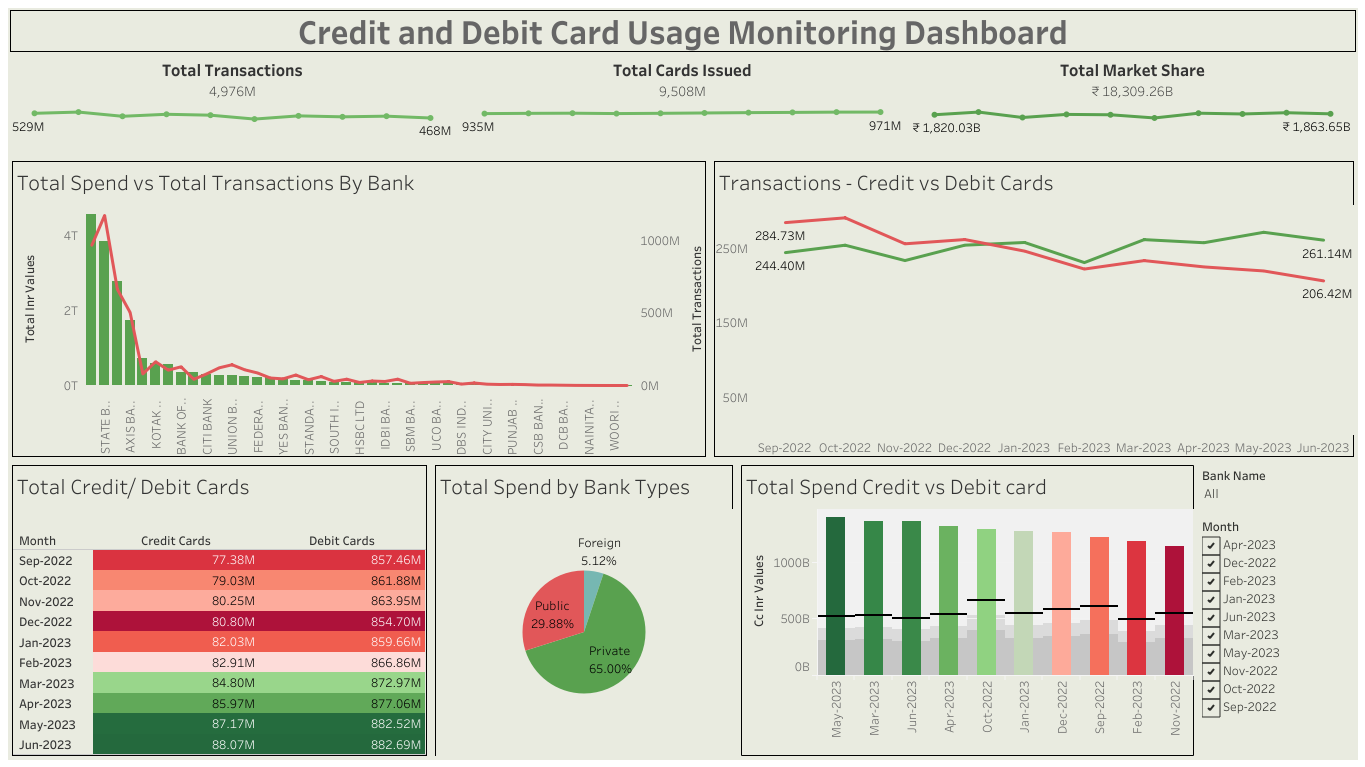

The dashboard page shown, as its layout file describes it:
{"tool":"tableau","page":{"name":"Dashboard 1","canvas":[1366,768],"ordinal":0},"visuals":[{"type":"text","box":[8,8,1350,46]},{"type":"worksheet","title":"Total Transactions","mark":"Automatic","box":[8,54,450,50]},{"type":"worksheet","title":"Total Cards Issued","mark":"Automatic","box":[458,54,449.9,50]},{"type":"worksheet","title":"Total Market Share","mark":"Automatic","box":[907.9,54,450.1,50]},{"type":"worksheet","title":"Total Transaction","mark":"Line","rows":["Calculation_302022709575872513"],"cols":["Month"],"box":[8,104,450,53]},{"type":"worksheet","title":"Total Card","mark":"Line","rows":["Calculation_302022709575753728"],"cols":["Month"],"box":[458,104,449.9,53]},{"type":"worksheet","title":"Total Inr Values","mark":"Line","rows":["Calculation_302022709575958530"],"cols":["Month"],"box":[907.9,104,450.1,53]},{"type":"worksheet","title":"Total Value vs Transactions","mark":"Bar","rows":["Calculation_302022709575958530","Calculation_302022709575872513"],"cols":["bank_name"],"box":[8,157,702,304]},{"type":"worksheet","title":"CC/DC transactions","mark":"Line","rows":["cc_transactions","dc_transctions"],"cols":["Month"],"box":[710,157,647.9,304]},{"type":"worksheet","title":"Credit cards vs Debit cards","mark":"Square","rows":["Month"],"box":[8,461,423.1,299]},{"type":"worksheet","title":"Bank Types - Transactions","mark":"Pie","box":[431.2,461,305.8,299]},{"type":"worksheet","title":"Total Spend Credit vs Debit card","mark":"Automatic","rows":["cc_inr_values"],"cols":["Month"],"box":[737,461,461,299]},{"type":"filter","title":"CC/DC transactions","param":"[federated.12tsevd0h7fewt1aiswtq160jlcj].[none:bank_name:nk]","box":[1198,461,160,51]},{"type":"filter","title":"CC/DC transactions","param":"[federated.12tsevd0h7fewt1aiswtq160jlcj].[none:Month:nk]","box":[1198,512,160,248]}]}

Visuals, with their boxes in screenshot pixels (x1, y1, x2, y2), scaled from the page's 1366x768 canvas onto the 1365x767 screenshot:
text: [8, 8, 1357, 54]
"Total Transactions" worksheet: [8, 54, 458, 104]
"Total Cards Issued" worksheet: [458, 54, 907, 104]
"Total Market Share" worksheet: [907, 54, 1357, 104]
"Total Transaction" worksheet (Line marks): [8, 104, 458, 157]
"Total Card" worksheet (Line marks): [458, 104, 907, 157]
"Total Inr Values" worksheet (Line marks): [907, 104, 1357, 157]
"Total Value vs Transactions" worksheet (Bar marks): [8, 157, 709, 460]
"CC/DC transactions" worksheet (Line marks): [709, 157, 1357, 460]
"Credit cards vs Debit cards" worksheet (Square marks): [8, 460, 431, 759]
"Bank Types - Transactions" worksheet (Pie marks): [431, 460, 736, 759]
"Total Spend Credit vs Debit card" worksheet: [736, 460, 1197, 759]
"CC/DC transactions" filter: [1197, 460, 1357, 511]
"CC/DC transactions" filter: [1197, 511, 1357, 759]
